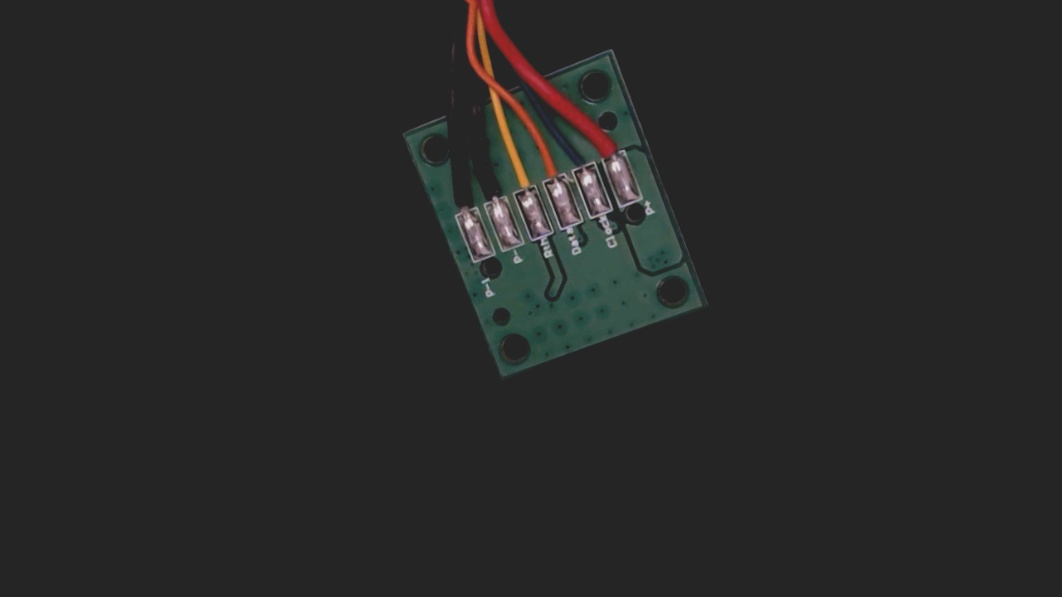Black: (466, 151, 513, 218)
Black1: (437, 166, 482, 229)
Green: (560, 129, 601, 185)
Orange: (526, 130, 571, 196)
Red: (586, 107, 632, 172)
Yellow: (497, 138, 544, 206)
